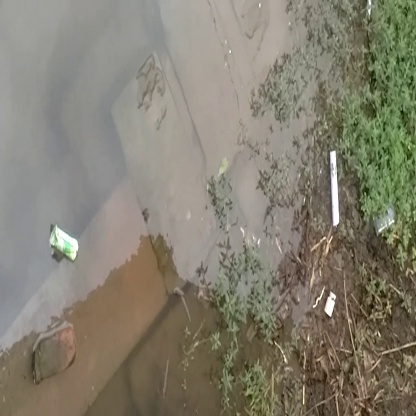milk-box: (44, 217, 98, 279)
